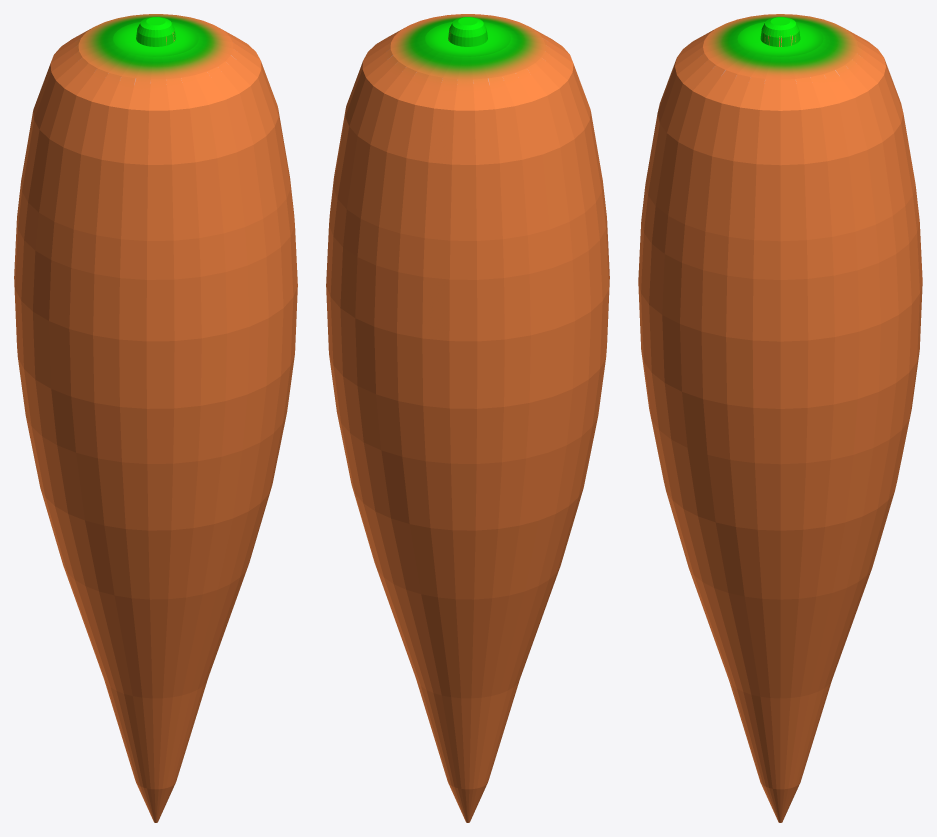
The model's file is Azka Ghafara_140810200037_Carrot1.fbx.
3 renders of one model, left to right at view 1: azimuth 30°, elevation 25°; view 2: azimuth 150°, elevation 25°; view 3: azimuth 270°, elevation 25°, orthographic.
Parts seen in each view (by area): view 1: Cylinder; view 2: Cylinder; view 3: Cylinder.
Part boxes in pixels (bbox=[...]): Cylinder: bbox=[14, 14, 297, 822]; Cylinder: bbox=[326, 14, 609, 822]; Cylinder: bbox=[638, 14, 922, 822].
Bounding box in the file's own units: 283 × 880 × 283.
Materials: 1 (1 with a texture image).
